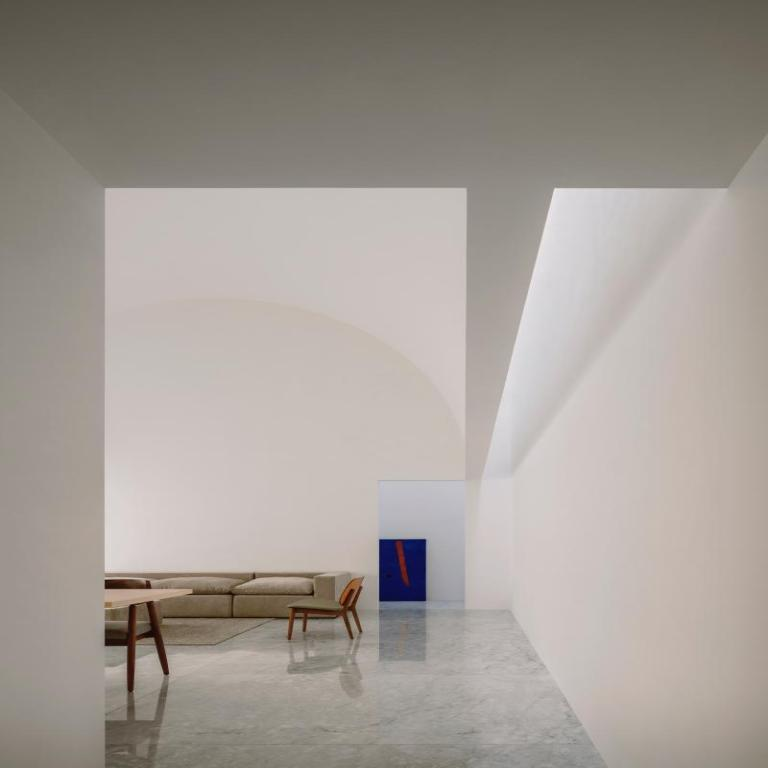white-walls: (29, 20, 717, 723)
